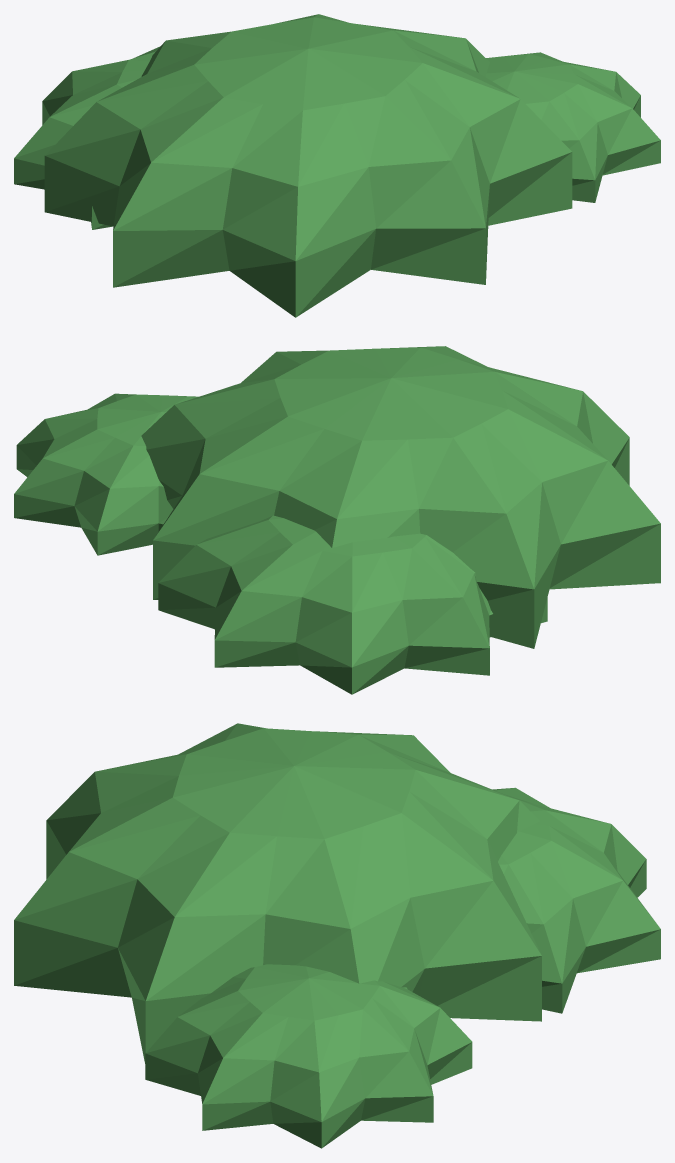
File: moss_a.glb
3 views of the same model, one above another, from view 1: azimuth 30°, elevation 25°; view 2: azimuth 150°, elevation 25°; view 3: azimuth 270°, elevation 25° (orthographic). The views are drawn at different scales.
Parts seen in each view (by area): view 1: moss; view 2: moss; view 3: moss.
Part boxes in pixels (box(x1,y1,x2,y2)): moss: box(14, 14, 660, 317); moss: box(14, 346, 660, 694); moss: box(14, 723, 660, 1148).
Size of the model in its own units: 0.8831 by 0.2394 by 0.7481.
